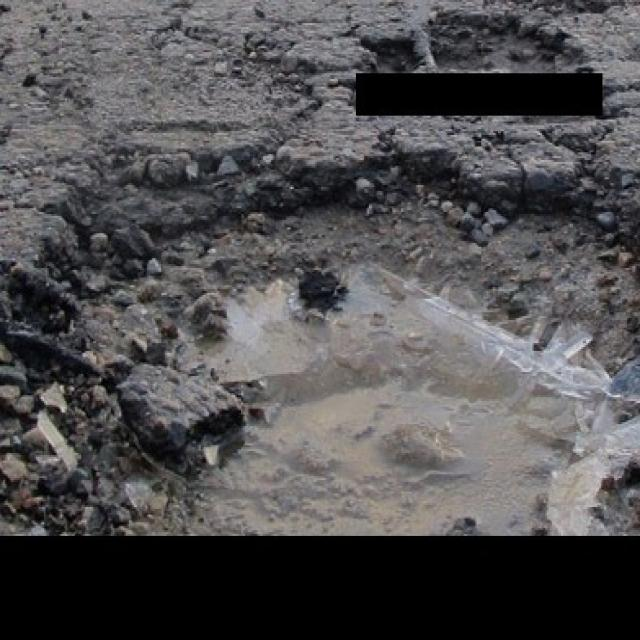road-pothole: (0, 144, 638, 541)
